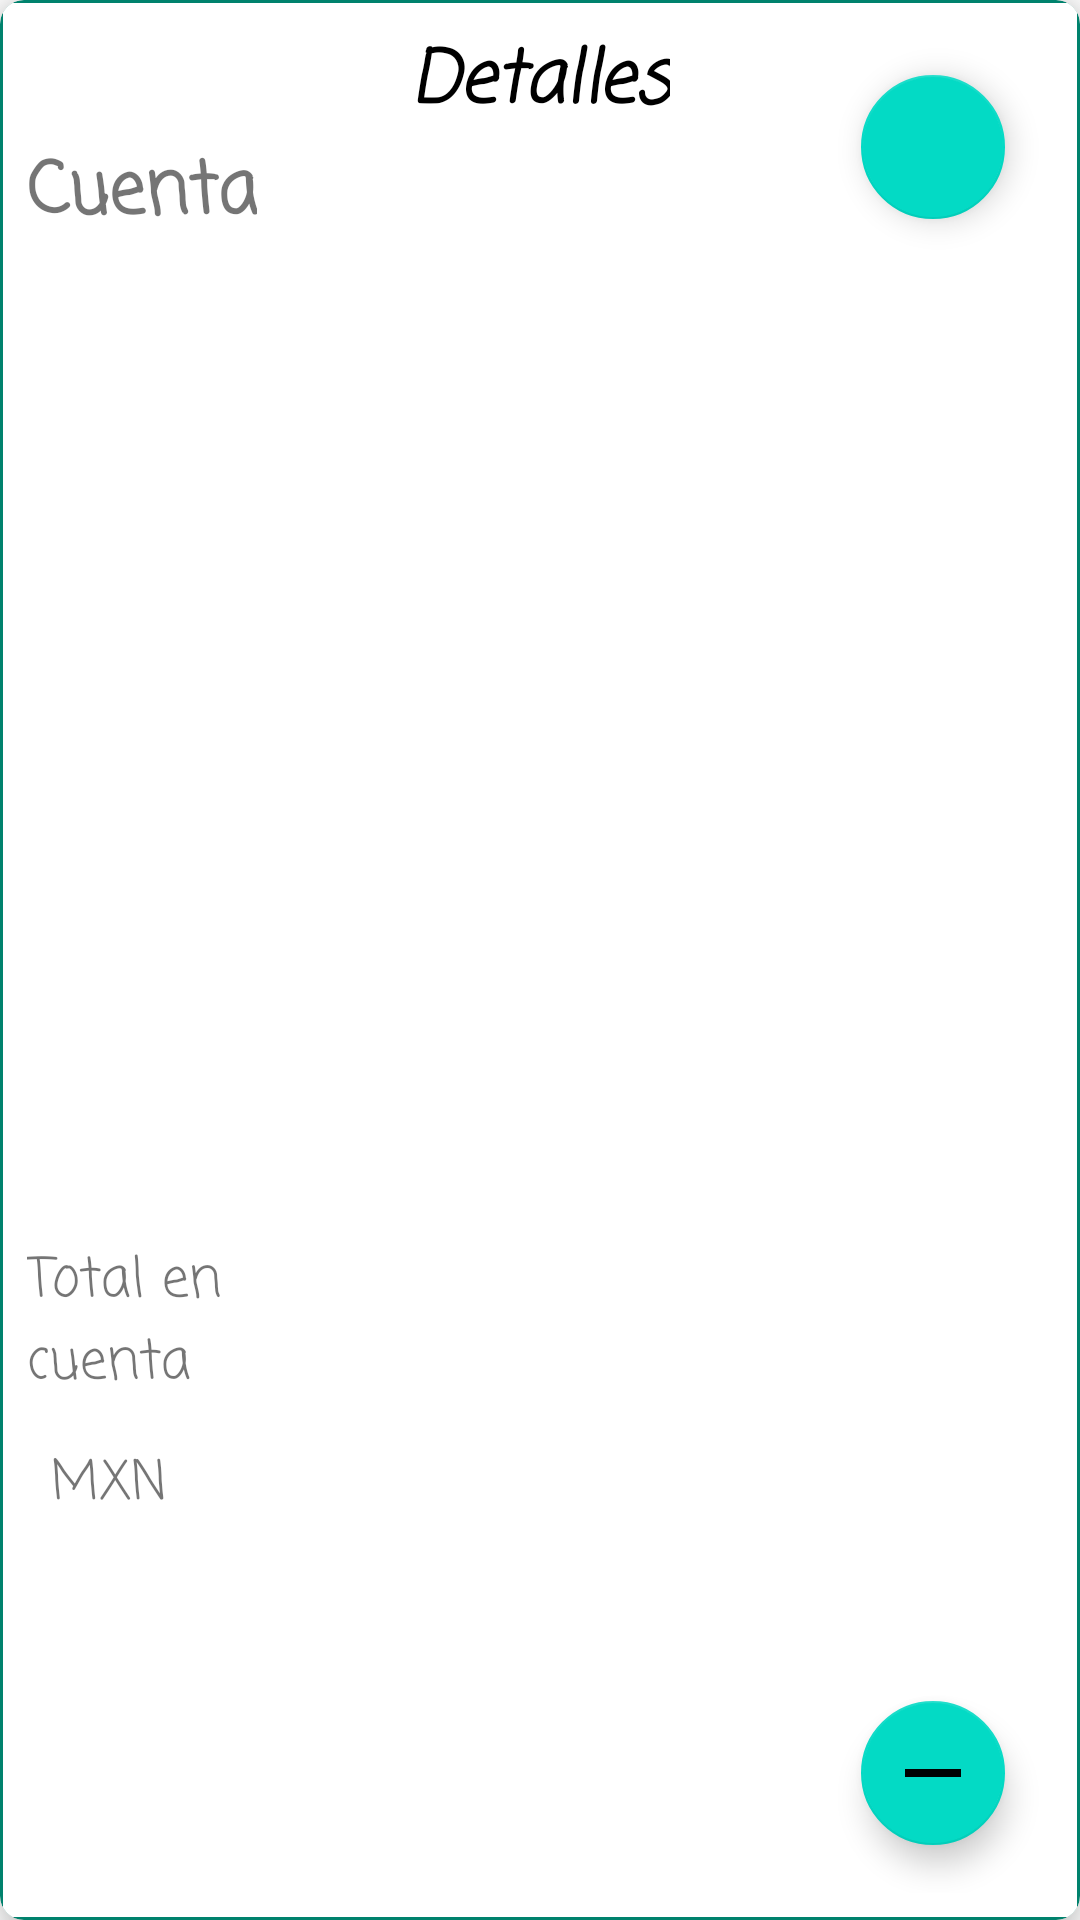

Where to tap for icons on this 1080 x 1920 app screen, as (x,y):
remove: (933,1773)
